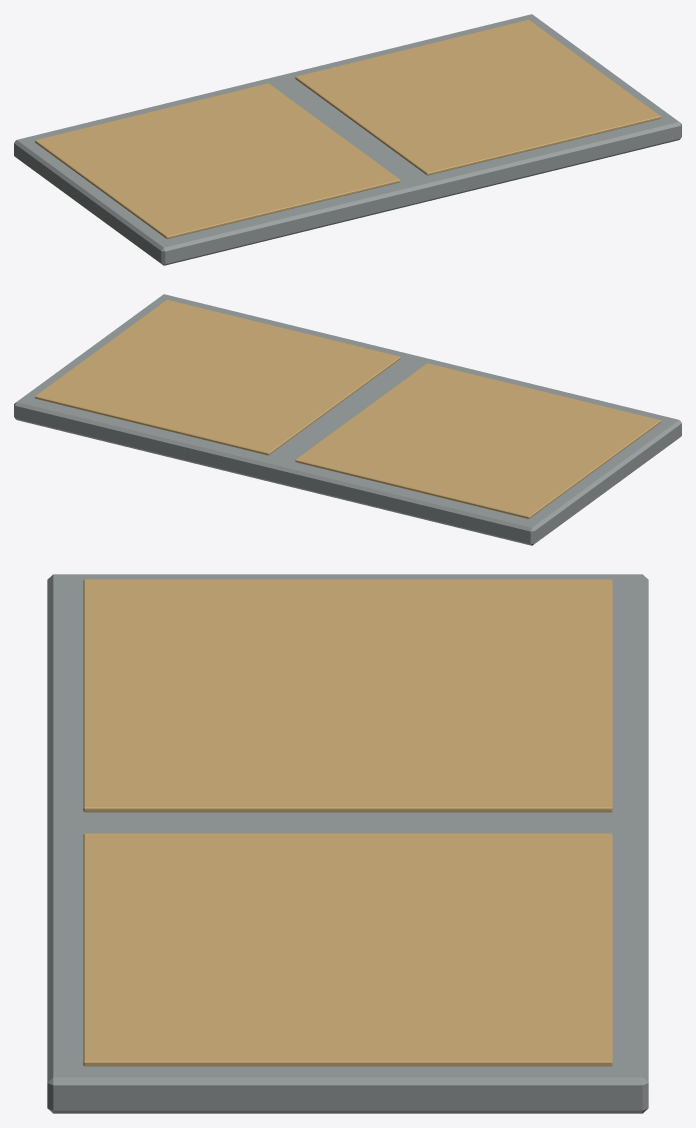
Rendered from path_2.glb.
The picture shows the model from 3 angles, top to bottom: view 1: azimuth 30°, elevation 25°; view 2: azimuth 150°, elevation 25°; view 3: azimuth 270°, elevation 25°; orthographic projection. The views are drawn at different scales.
Parts seen in each view (by area): view 1: path_2; view 2: path_2; view 3: path_2.
Boxes of the visible parts, x1=… form: path_2: x1=14, y1=14, x2=681, y2=265; path_2: x1=14, y1=294, x2=681, y2=545; path_2: x1=47, y1=574, x2=648, y2=1113.
Bounding box in the file's own units: 3 × 0.1155 × 1.5.
